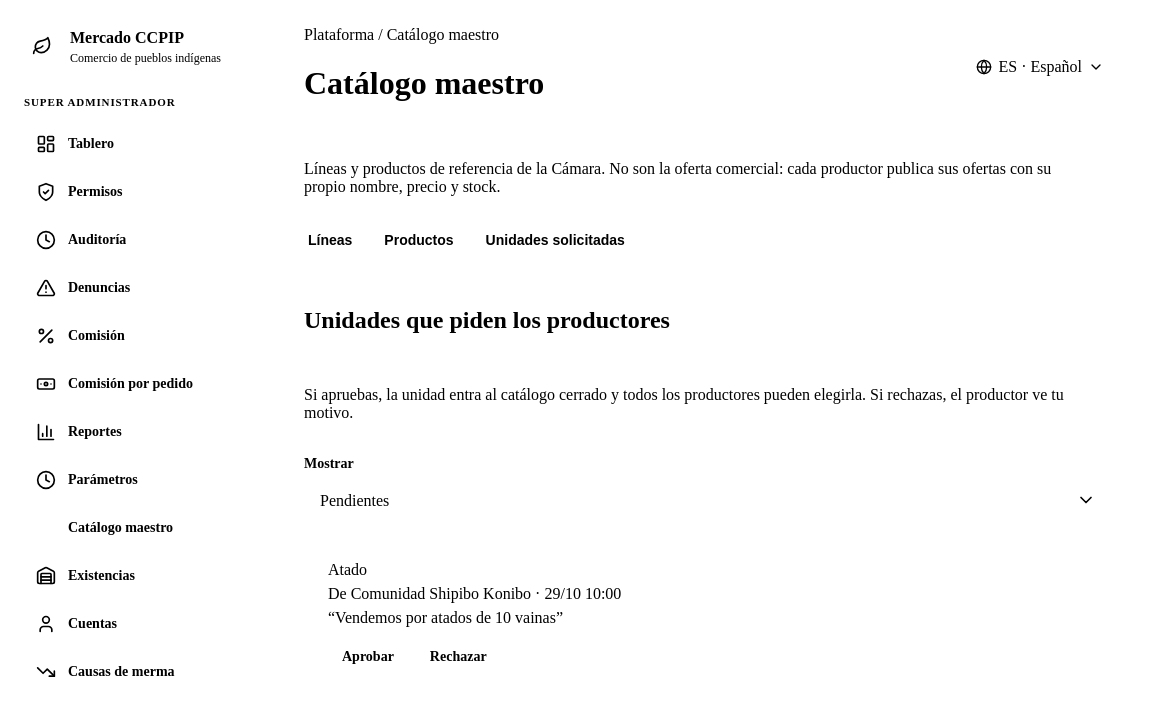
CCPIP-137 y CCPIP-353 La Cámara decide las unidades que piden los productores › aprueba una unidad ajustando el nombre y el nombre en inglés
expect the text "“Vendemos por atados de 10 vainas”" is shown: met, box [328,609,563,626]
expect the text "De Comunidad Shipibo Konibo · 29/10 10:00" is shown: met, box [328,585,621,602]
Click the button with aria-label "Aprobar Atado" at (368, 657), box [328,641,408,673]
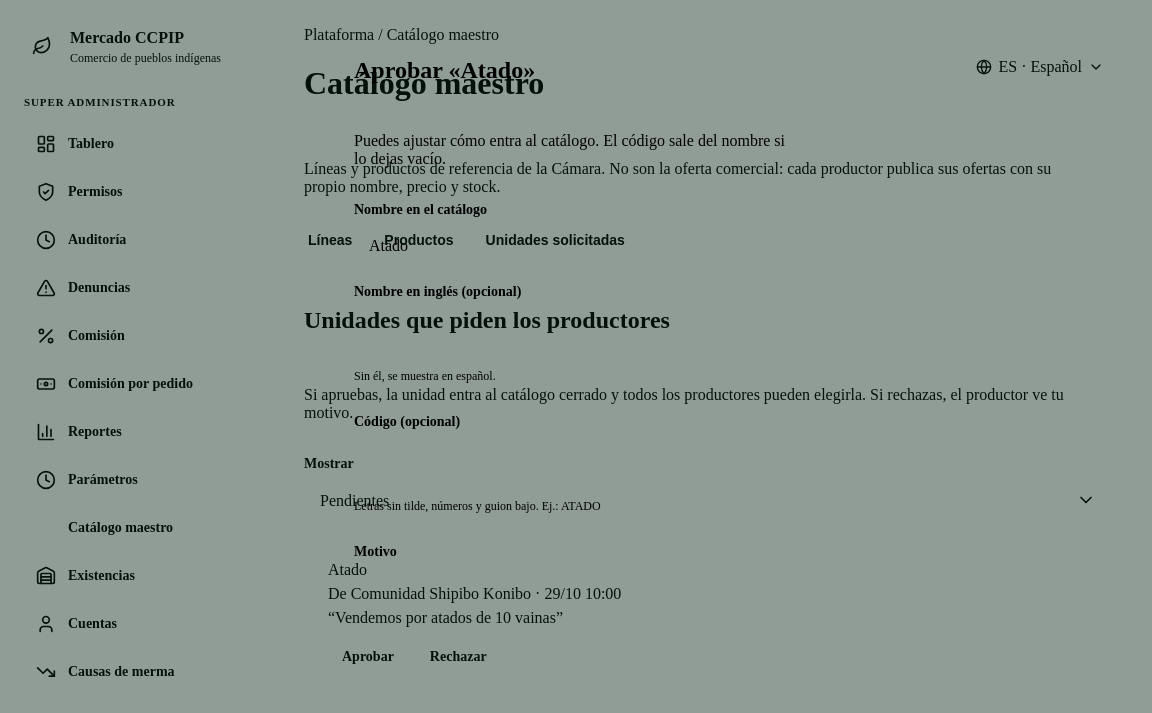
Replace the text in the field labelled "Nombre en el catálogo" with "Atado de 10" at (585, 246), box [354,226,816,266]
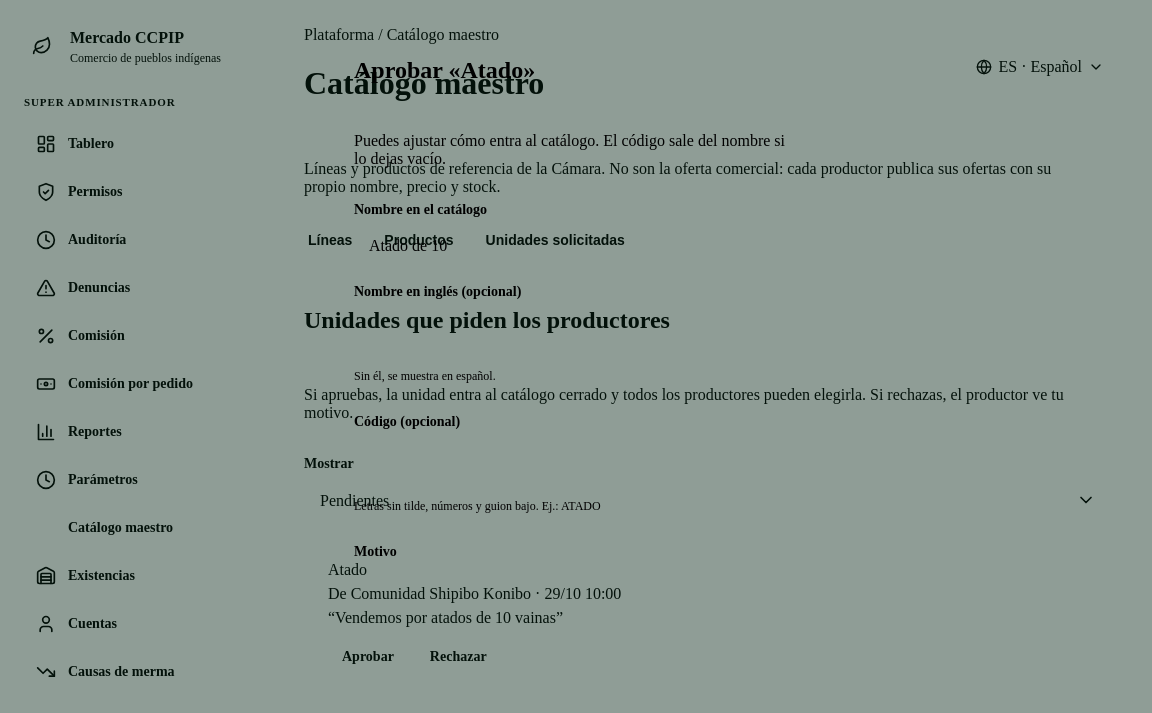
Type "Bundle of 10" into the field labelled "Nombre en inglés (opcional)" at (586, 329), box [354,308,818,350]
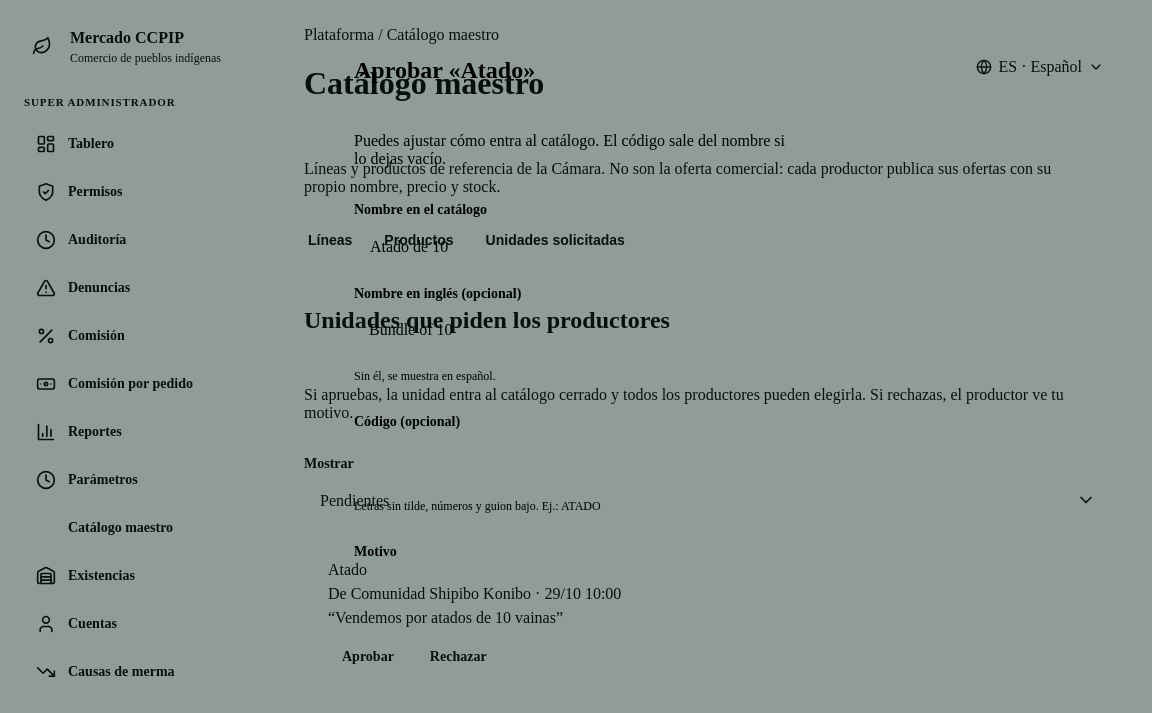
Type "Se usa en varias comunidades" into the text box labelled "Motivo" at (586, 636), box [354,568,818,704]
(page scrolled)
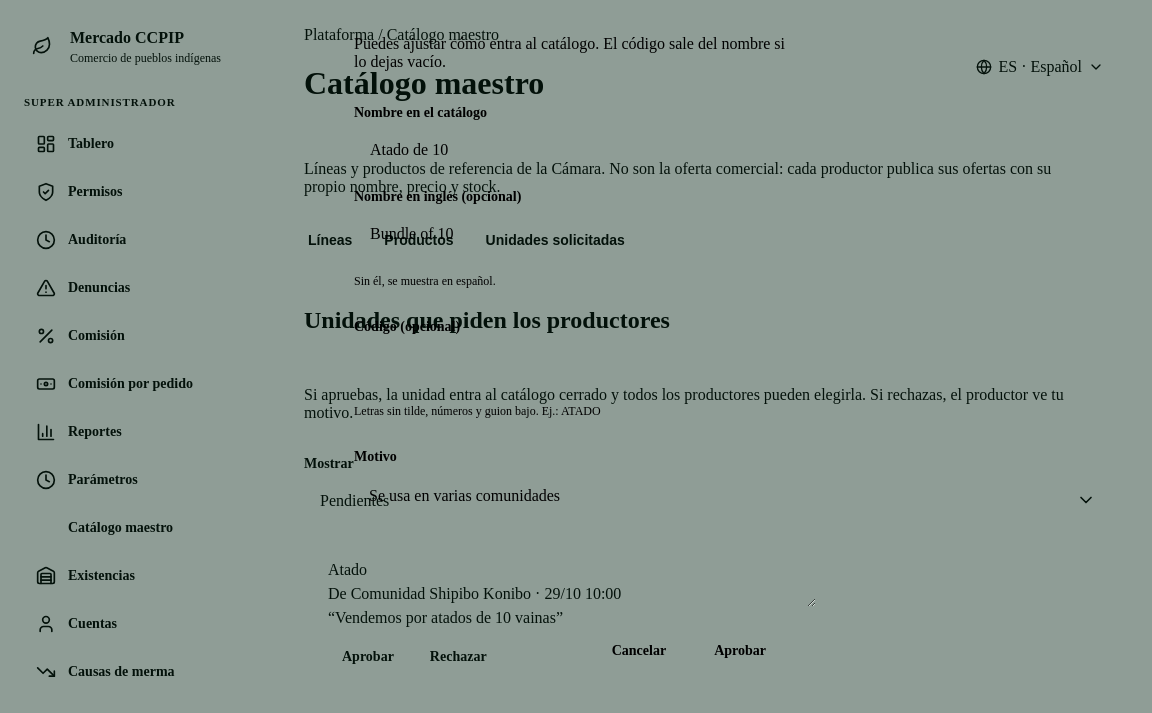
Click the button "Aprobar" at (740, 651), box [694,631,786,671]
(page scrolled)
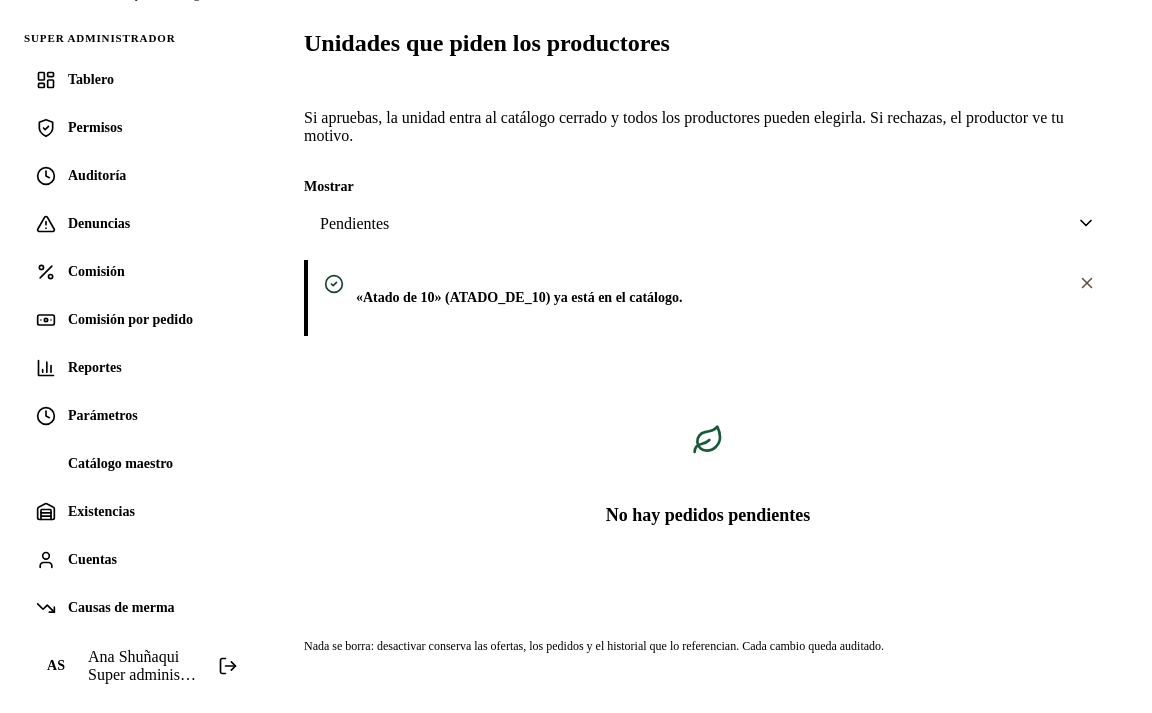
expect the text "«Atado de 10» (ATADO_DE_10) ya está en el catálogo." is shown: met, box [356,290,682,305]
expect the text "No hay pedidos pendientes" is shown: met, box [606,502,810,528]
